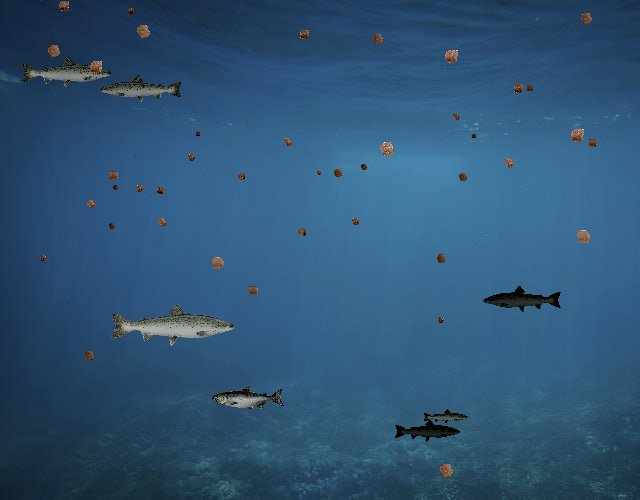Fish: (108, 301, 237, 347), (20, 55, 114, 89), (98, 73, 184, 104), (483, 284, 564, 313), (212, 385, 285, 411), (394, 418, 462, 442), (422, 408, 469, 425)
Pellet: (437, 42, 466, 71), (563, 122, 591, 150), (574, 6, 598, 30), (294, 24, 315, 45), (453, 168, 472, 187), (347, 213, 364, 230), (433, 313, 448, 327), (36, 251, 50, 265)
